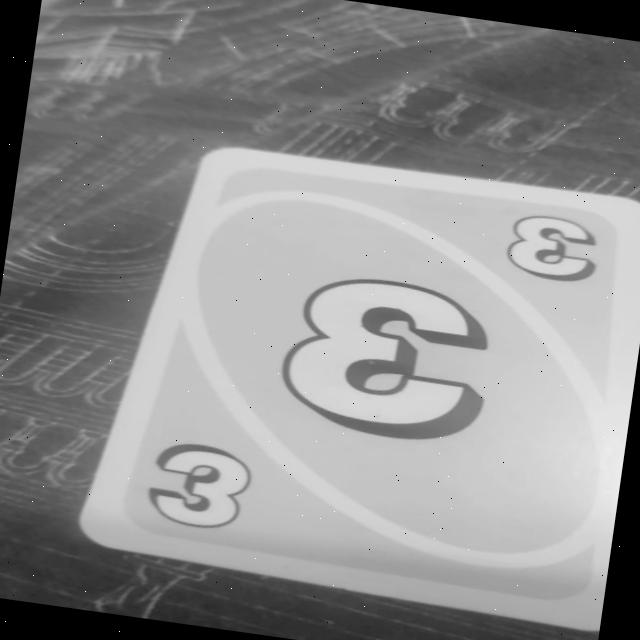card_3: (72, 127, 640, 633)
